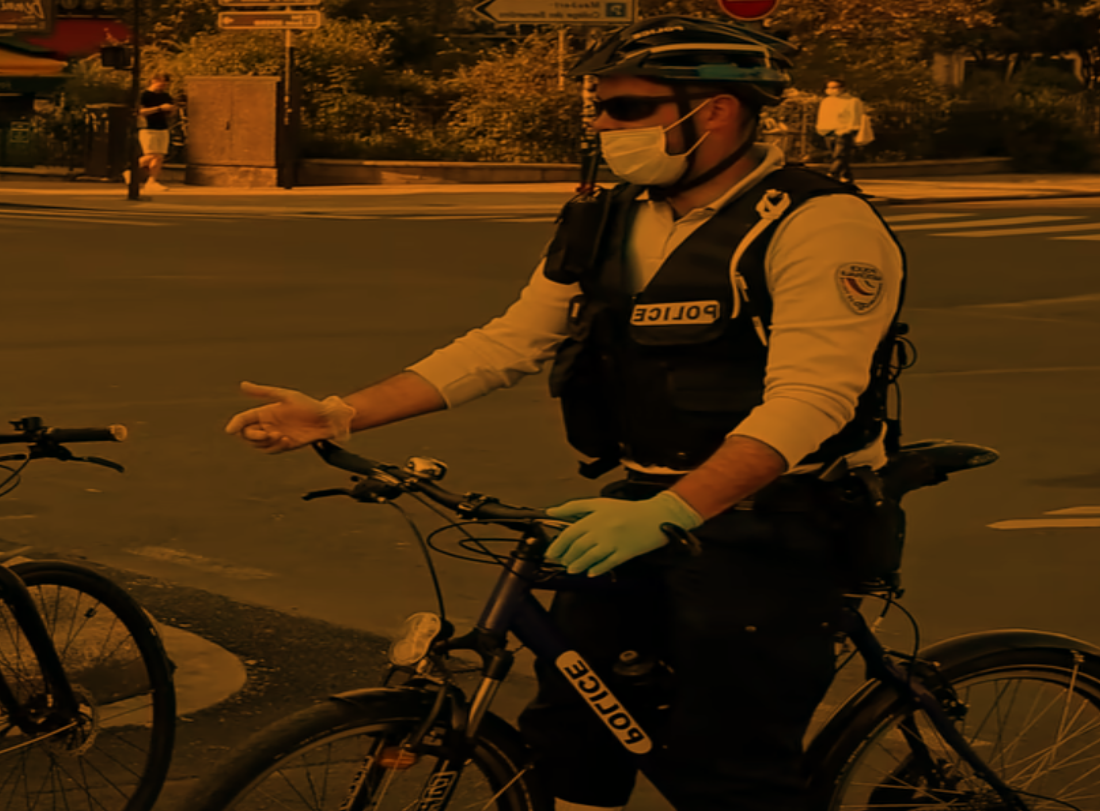mask_weared_incorrect: (582, 22, 778, 196)
